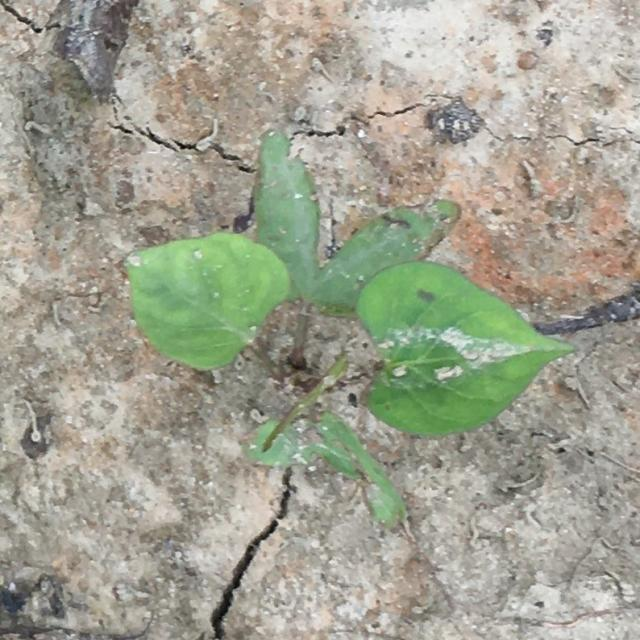MorningGlory: (122, 129, 580, 531)
